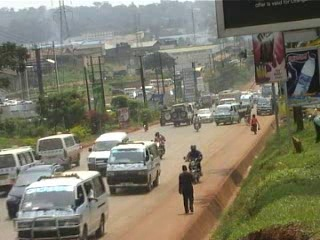Car: (3, 163, 72, 219), (86, 131, 131, 177), (168, 102, 193, 126), (156, 105, 179, 126), (192, 106, 213, 122)
Motorcycle: (180, 143, 206, 184), (151, 131, 166, 161), (190, 112, 204, 134), (140, 112, 152, 132)
